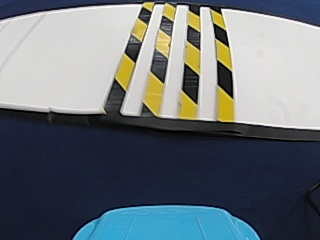bump: (107, 10, 239, 114)
